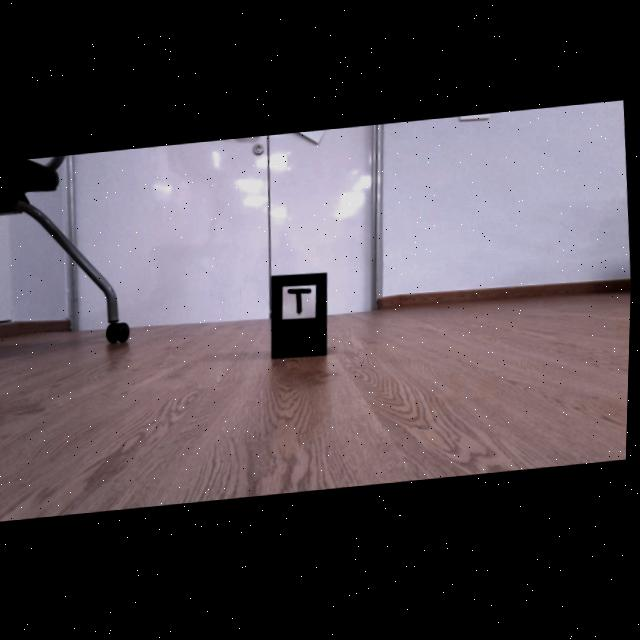T: (289, 291, 313, 316)
